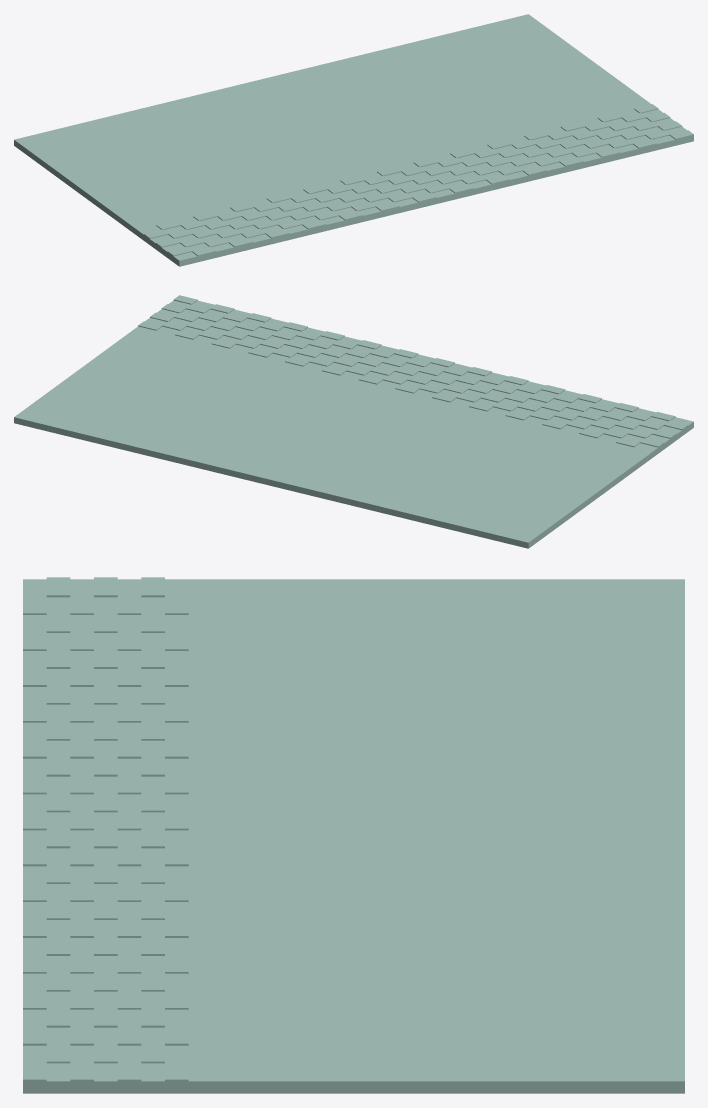
File: cenario_back_floor.fbx
3 views of the same model, one above another, from view 1: azimuth 30°, elevation 25°; view 2: azimuth 150°, elevation 25°; view 3: azimuth 270°, elevation 25° (orthographic). The views are drawn at different scales.
Parts seen in each view (by area): view 1: Cube.003; view 2: Cube.003; view 3: Cube.003.
Boxes of the visible parts, x1,y1,x2,y2 form: Cube.003: [14, 14, 693, 266]; Cube.003: [14, 295, 693, 548]; Cube.003: [23, 577, 684, 1093].
Bounding box in the file's own units: 8436 × 109 × 4700.
